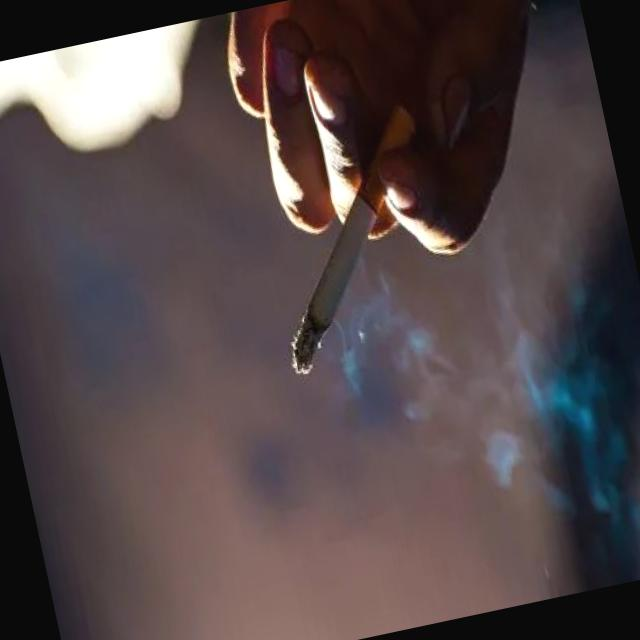cigarette: (233, 90, 466, 390)
